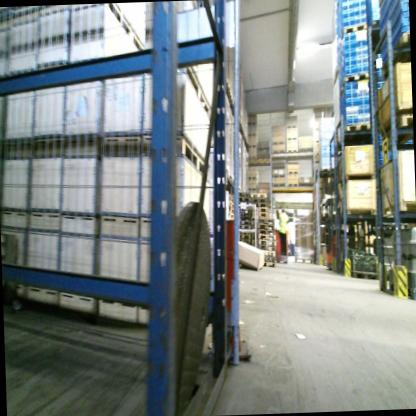forklift: (320, 195, 344, 272)
pallet: (139, 132, 209, 175), (183, 71, 211, 117), (383, 32, 410, 76), (383, 112, 413, 151), (102, 132, 142, 158), (337, 72, 369, 96), (341, 121, 372, 136), (341, 21, 368, 37), (391, 284, 416, 300), (352, 270, 377, 280), (257, 233, 276, 242), (258, 217, 275, 226), (258, 222, 275, 231), (371, 19, 380, 36), (257, 227, 276, 234), (295, 257, 314, 264), (258, 245, 275, 252), (263, 260, 276, 269), (258, 239, 276, 245), (237, 197, 251, 204), (264, 250, 276, 258), (251, 198, 266, 204), (264, 256, 275, 264), (251, 193, 265, 199), (240, 239, 252, 246), (238, 192, 250, 199), (239, 223, 250, 230), (239, 207, 251, 213), (227, 200, 235, 209), (226, 169, 232, 181), (228, 206, 235, 215), (256, 203, 266, 209), (240, 220, 250, 226), (228, 213, 235, 221), (227, 196, 235, 203), (256, 208, 267, 213), (239, 230, 250, 235), (240, 235, 250, 240), (239, 212, 251, 216), (240, 216, 251, 220), (258, 213, 267, 217), (251, 232, 256, 236), (251, 217, 255, 222), (252, 236, 256, 240), (252, 240, 255, 245)
pallet_truck: (272, 217, 293, 267)
small_load_carrier: (389, 22, 410, 53), (391, 6, 409, 38), (390, 0, 407, 22), (377, 13, 390, 39), (337, 1, 353, 17), (379, 0, 390, 22), (339, 8, 354, 24), (341, 90, 355, 105), (340, 17, 354, 30), (343, 106, 359, 117), (343, 116, 359, 127), (345, 63, 358, 76), (355, 83, 368, 96), (352, 13, 367, 24), (353, 3, 365, 16), (355, 31, 368, 43), (343, 83, 357, 94), (355, 41, 367, 53), (356, 56, 368, 68), (343, 33, 354, 46), (356, 49, 367, 61), (344, 56, 357, 66), (344, 97, 357, 107), (359, 106, 370, 117), (356, 65, 369, 74), (356, 98, 369, 107), (343, 49, 354, 59), (344, 40, 355, 50), (359, 115, 370, 123), (340, 0, 353, 5), (353, 0, 365, 5)
stillage: (339, 248, 378, 277)
